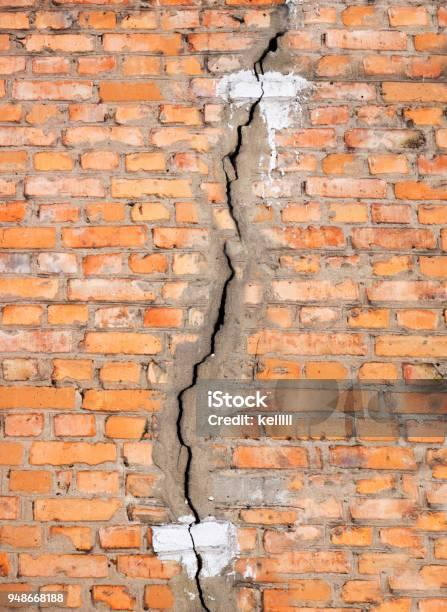Crack: (174, 19, 307, 383), (150, 380, 220, 612)
